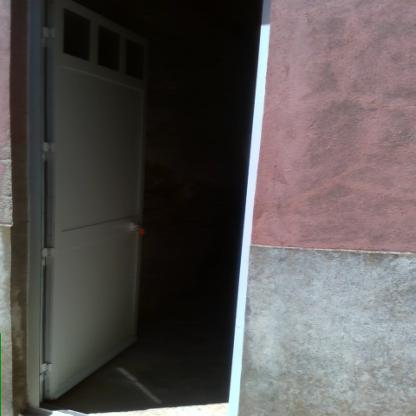open: (7, 0, 266, 415)
